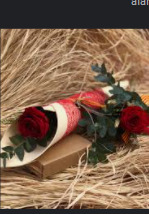RedRose: (11, 105, 55, 140), (116, 101, 149, 135)
